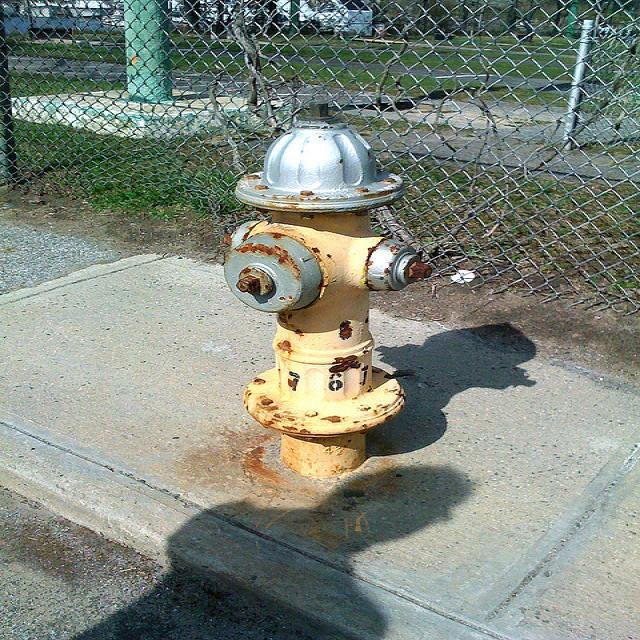fire_hydrant: (222, 97, 434, 480)
